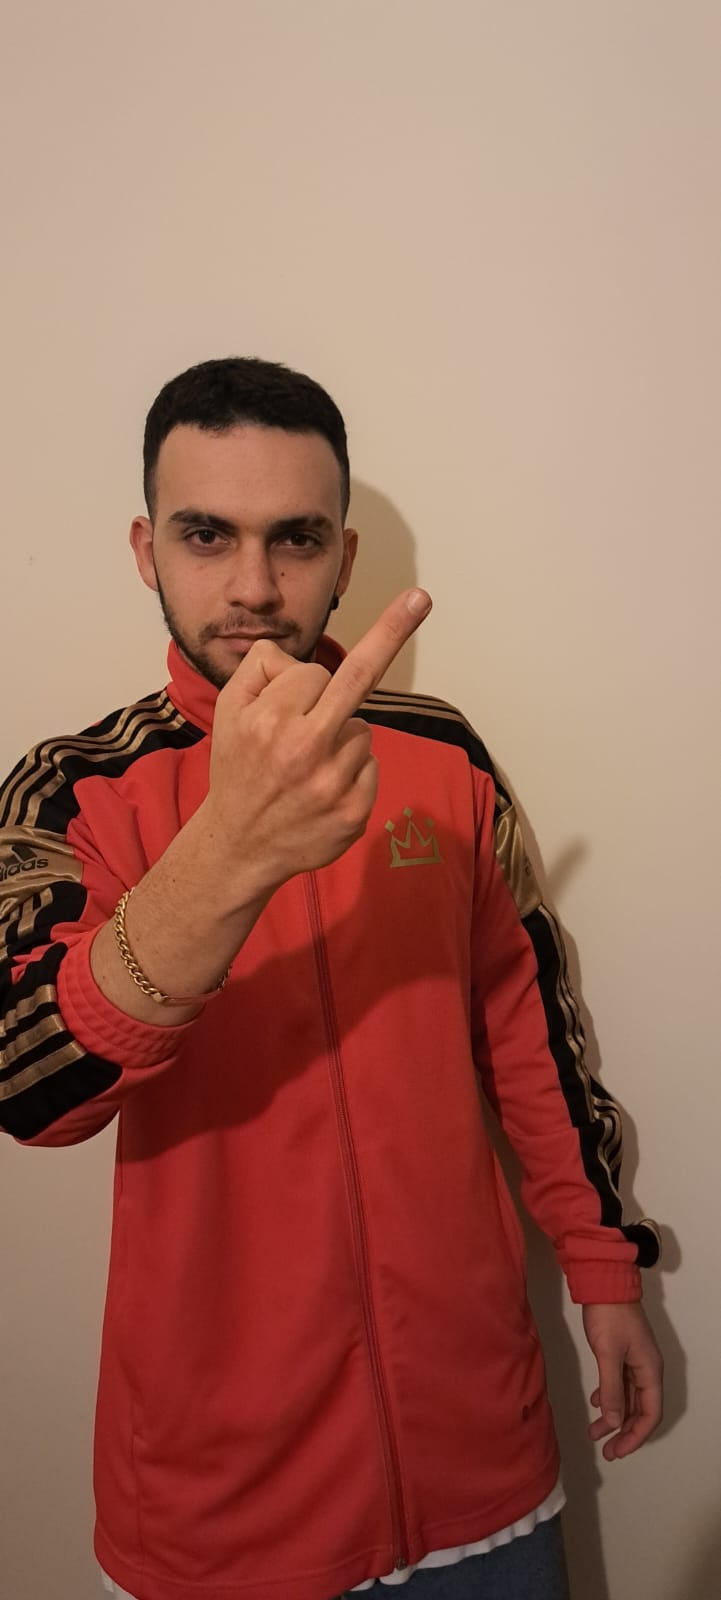fck: (203, 581, 437, 880)
